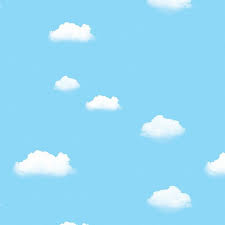sky: (2, 1, 223, 224)
